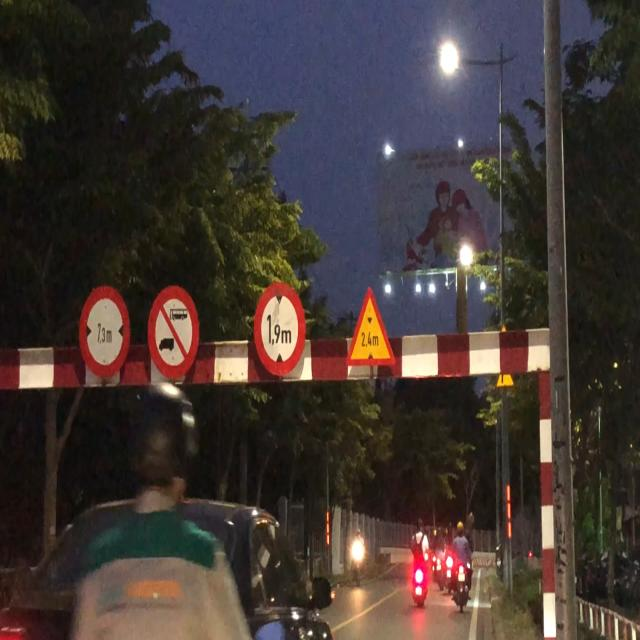Bien bao cam xe oto khach va xe oto tai: (147, 277, 205, 386)
Bien bao chieu cao tinh khong thuc te: (341, 282, 400, 370)
Bien bao han che chieu cao: (254, 276, 313, 382)
